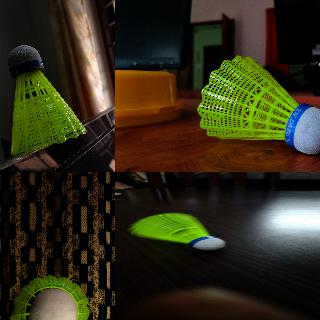shuttlecock: (198, 54, 319, 156), (8, 45, 86, 155), (127, 212, 225, 250), (10, 275, 89, 319)
